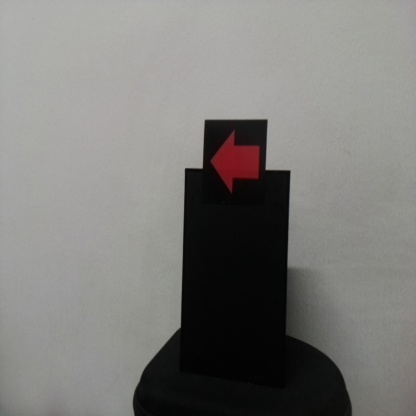id_4: (204, 120, 266, 208)
